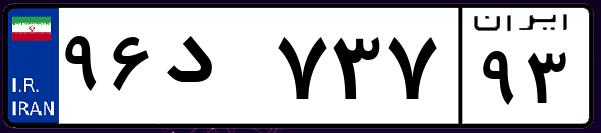3: (330, 28, 385, 110), (525, 38, 570, 115)
6: (110, 28, 158, 98)
7: (270, 28, 330, 110), (385, 28, 445, 110)
9: (57, 26, 110, 100), (475, 38, 525, 113)
د: (158, 20, 270, 120)
